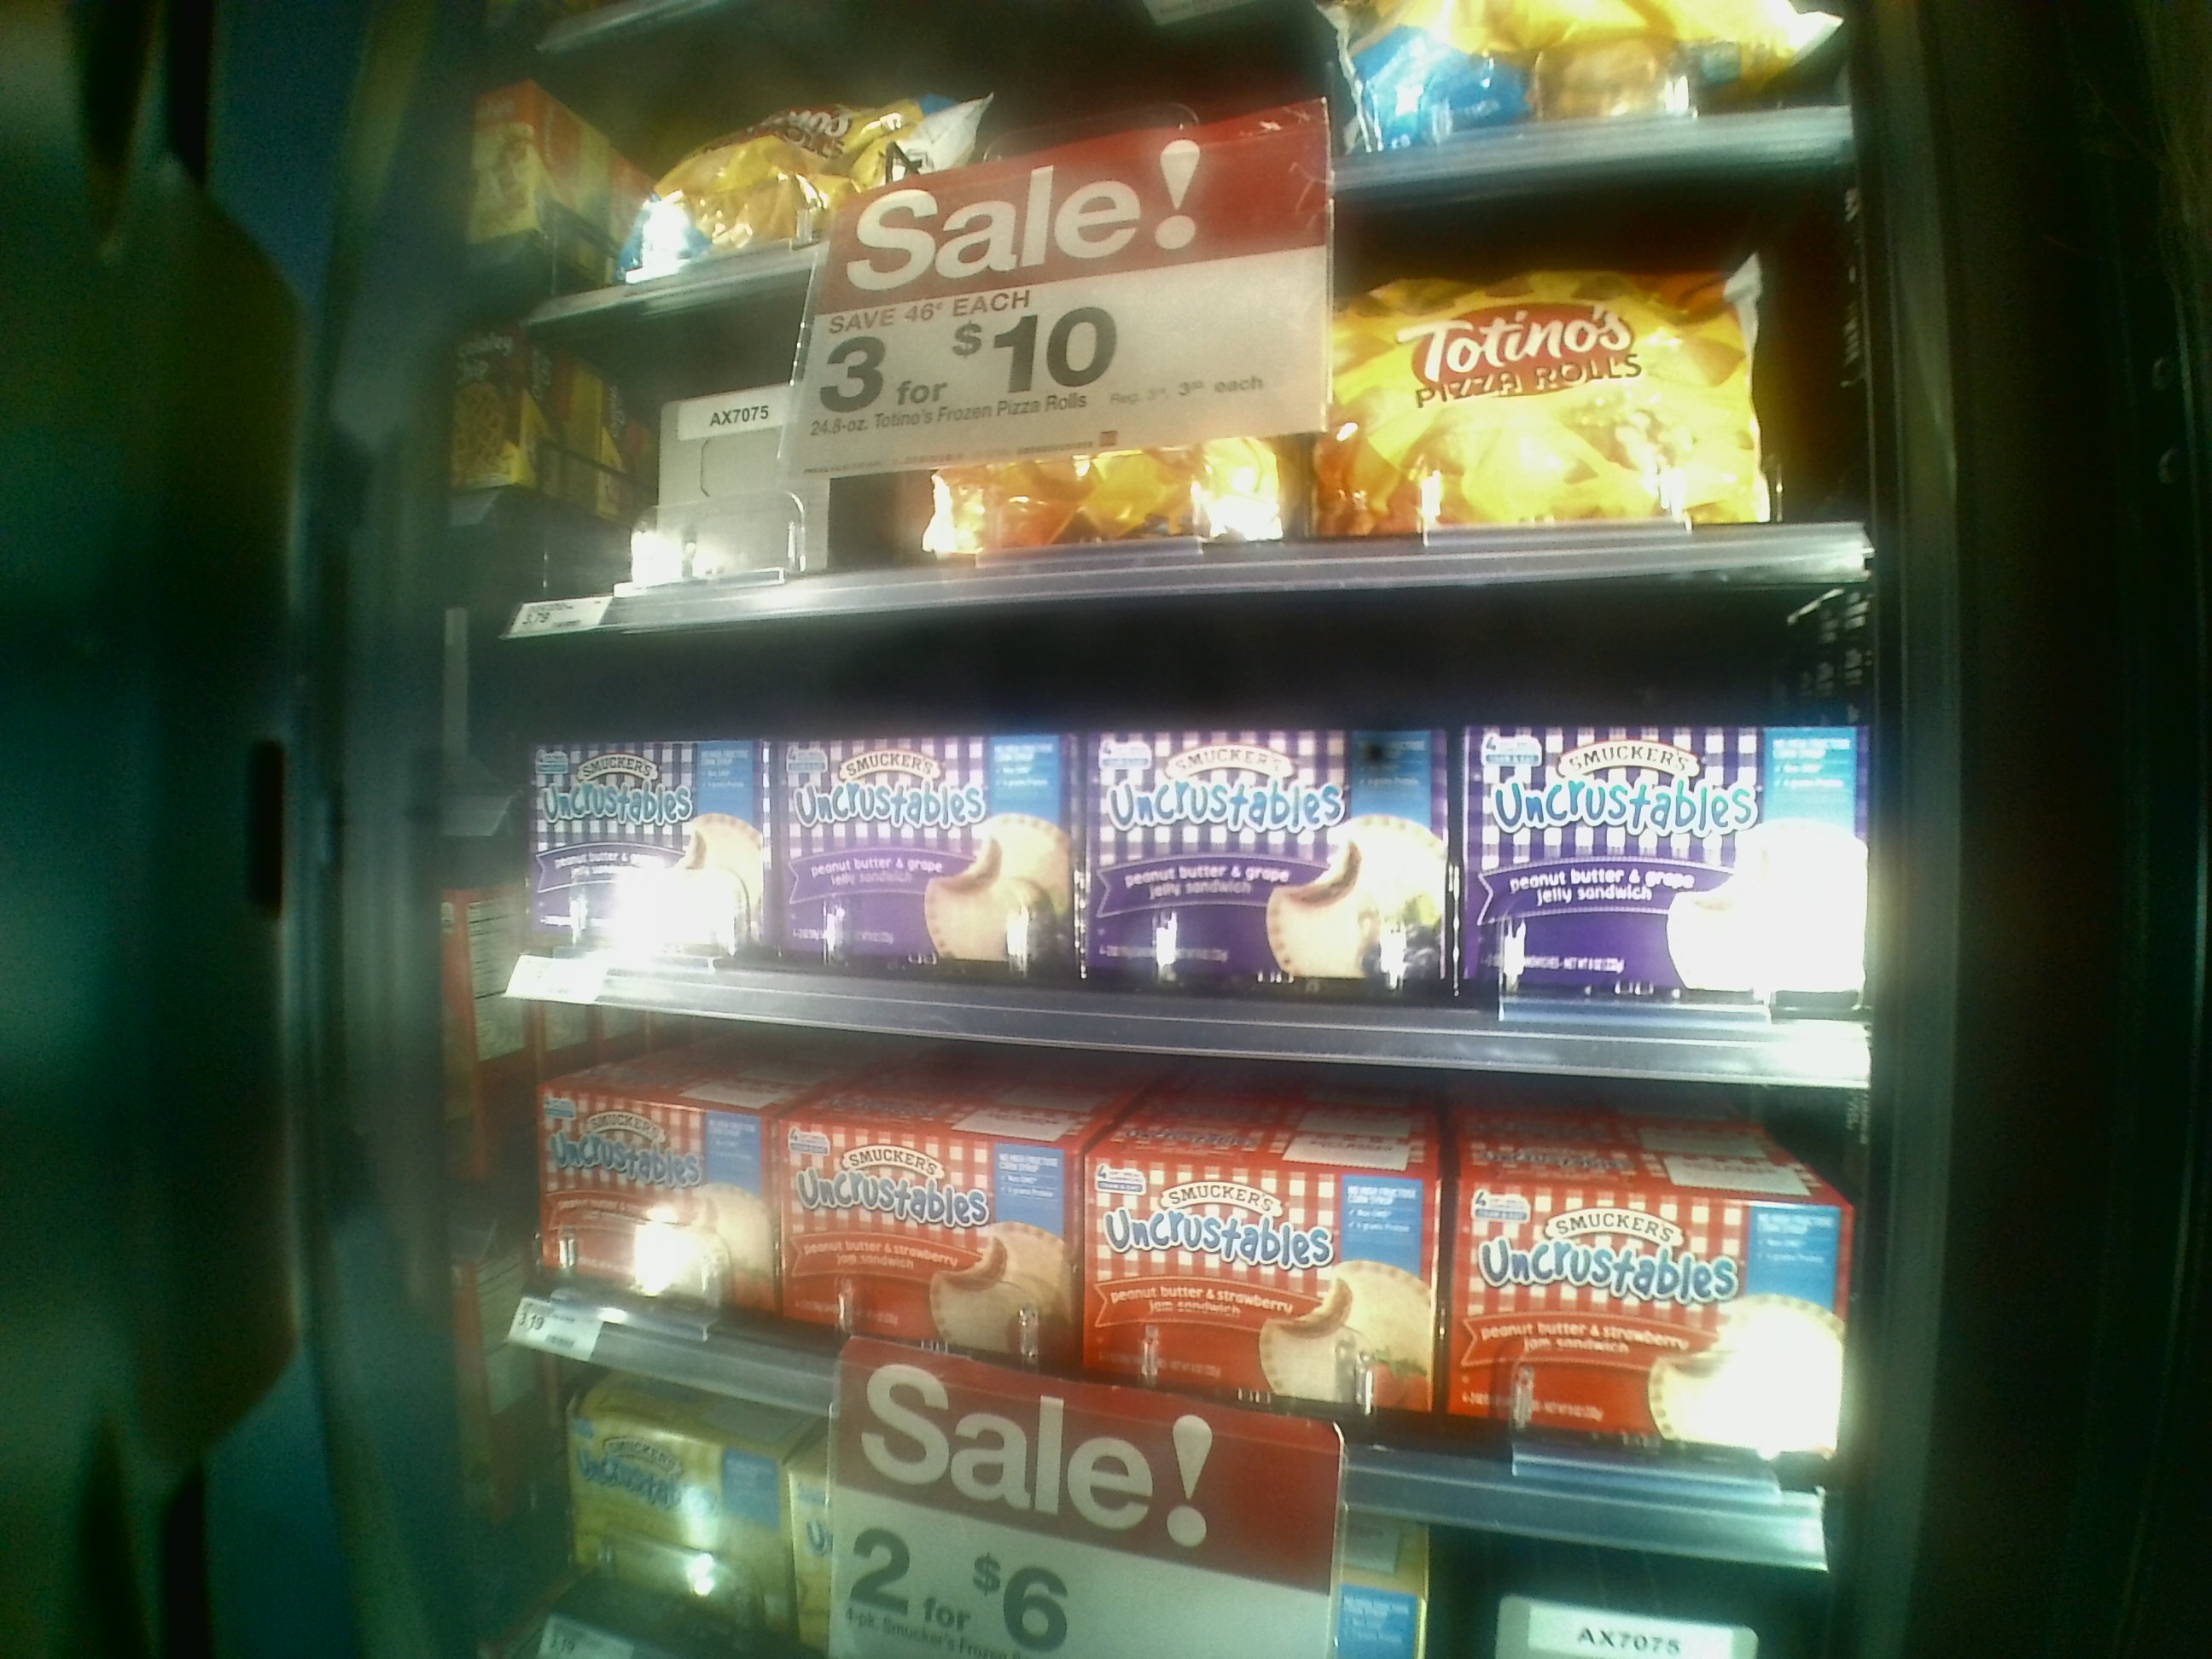shelf: (482, 1011, 1855, 1591), (482, 603, 1878, 1084), (482, 251, 1865, 589)
